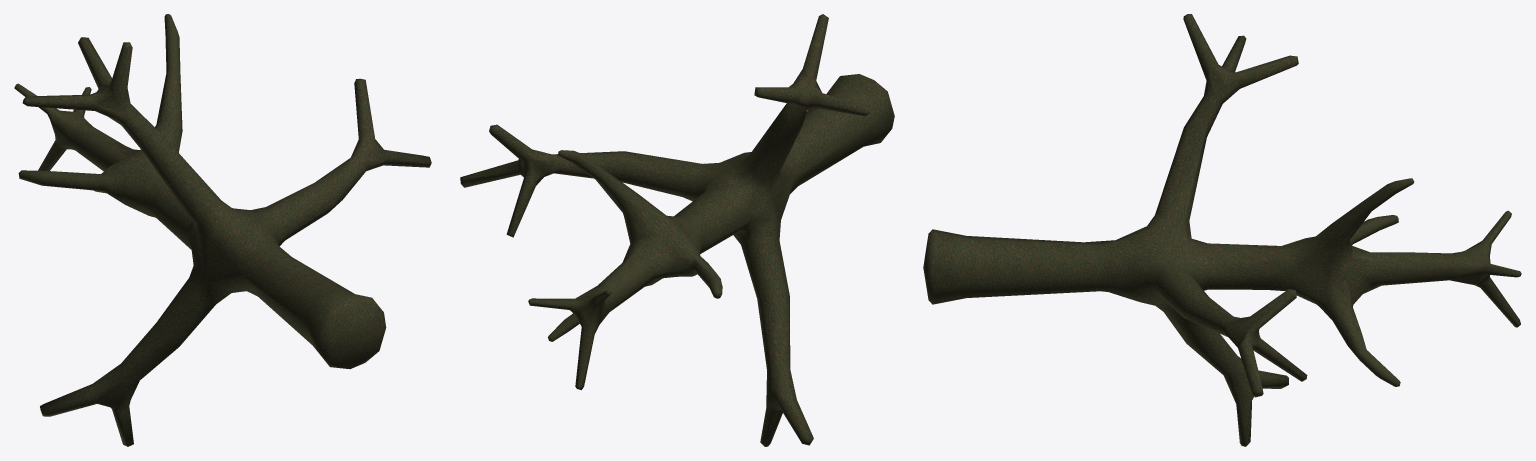
Rendered from SwampTree1Empty.fbx.
3 views of the same model, side by side, from view 1: azimuth 30°, elevation 25°; view 2: azimuth 150°, elevation 25°; view 3: azimuth 270°, elevation 25° (orthographic). The views are drawn at different scales.
Visible parts, largest first — view 1: SwampTree1Empty; view 2: SwampTree1Empty; view 3: SwampTree1Empty.
Part boxes in pixels (<box>): SwampTree1Empty: <box>14,14,431,446</box>; SwampTree1Empty: <box>460,14,894,446</box>; SwampTree1Empty: <box>923,14,1521,446</box>.
Bounding box in the file's own units: 3404 × 3390 × 4392.
